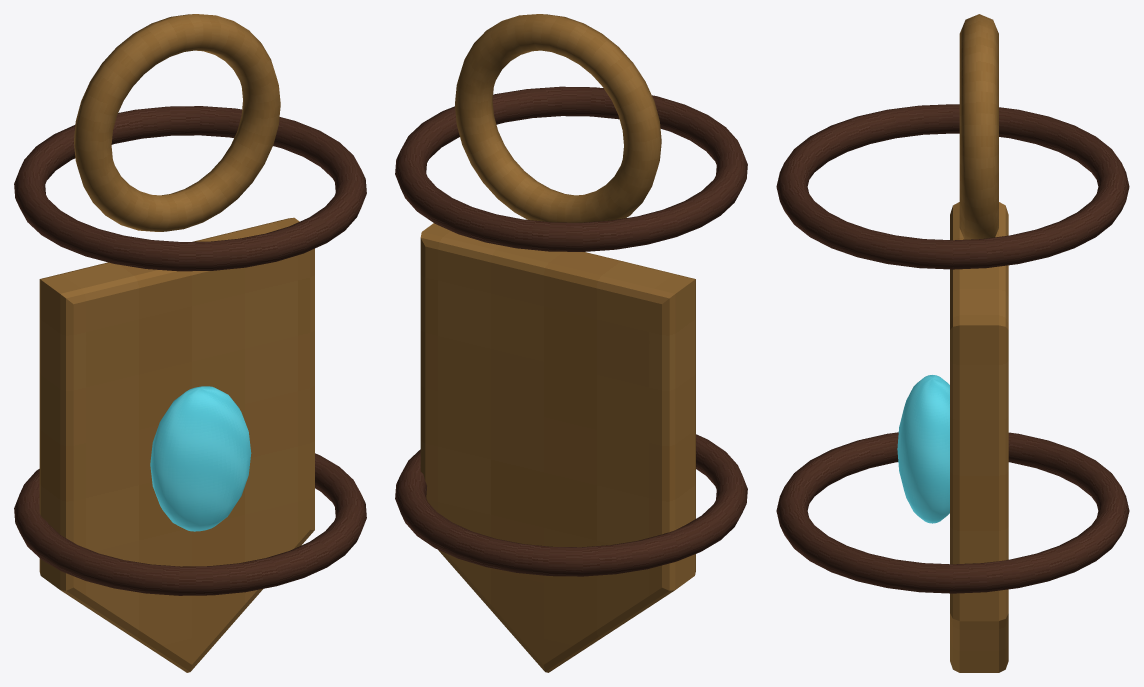
3 renders of one model, left to right at view 1: azimuth 30°, elevation 25°; view 2: azimuth 150°, elevation 25°; view 3: azimuth 270°, elevation 25°, orthographic.
Visible parts, largest first — view 1: brass.1, brass.0, leather.4, leather.3, crystal.2; view 2: brass.1, brass.0, leather.4, leather.3; view 3: brass.1, leather.4, leather.3, brass.0, crystal.2.
Part boxes in pixels (bbox=[...]): brass.1: bbox=[39, 217, 314, 672]; brass.0: bbox=[74, 14, 280, 231]; leather.4: bbox=[14, 106, 366, 271]; leather.3: bbox=[14, 453, 366, 595]; crystal.2: bbox=[150, 386, 251, 531]; brass.1: bbox=[420, 223, 695, 672]; brass.0: bbox=[455, 14, 661, 222]; leather.4: bbox=[395, 86, 747, 251]; leather.3: bbox=[395, 434, 747, 576]; brass.1: bbox=[950, 202, 1008, 672]; leather.4: bbox=[776, 104, 1129, 269]; leather.3: bbox=[776, 432, 1129, 593]; brass.0: bbox=[959, 14, 998, 239]; crystal.2: bbox=[897, 375, 949, 523].
Size of the model in its own units: 0.0905 by 0.1833 by 0.0905.
3 materials, 3 textured.
